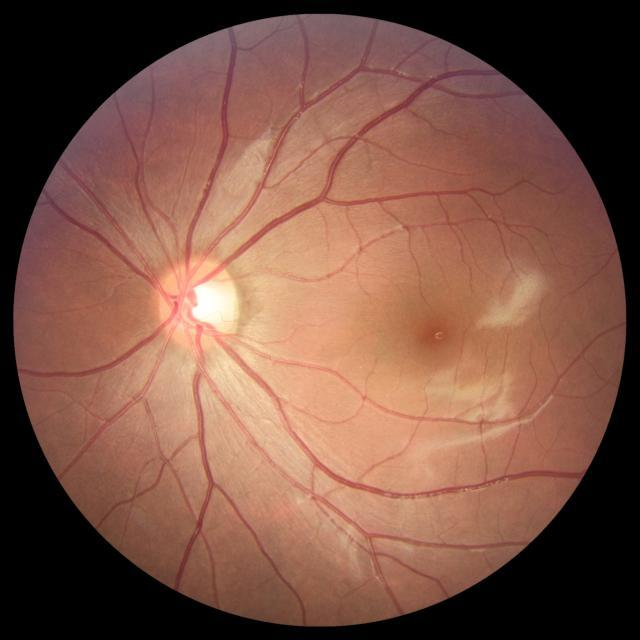OC: (180, 278, 235, 328)
OD: (162, 258, 238, 348)
